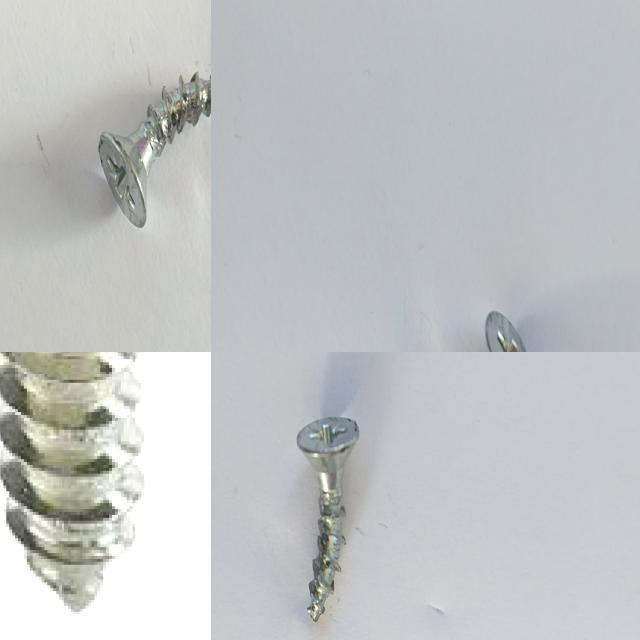Screw: (0, 352, 147, 615), (99, 71, 211, 226), (297, 416, 359, 621)
